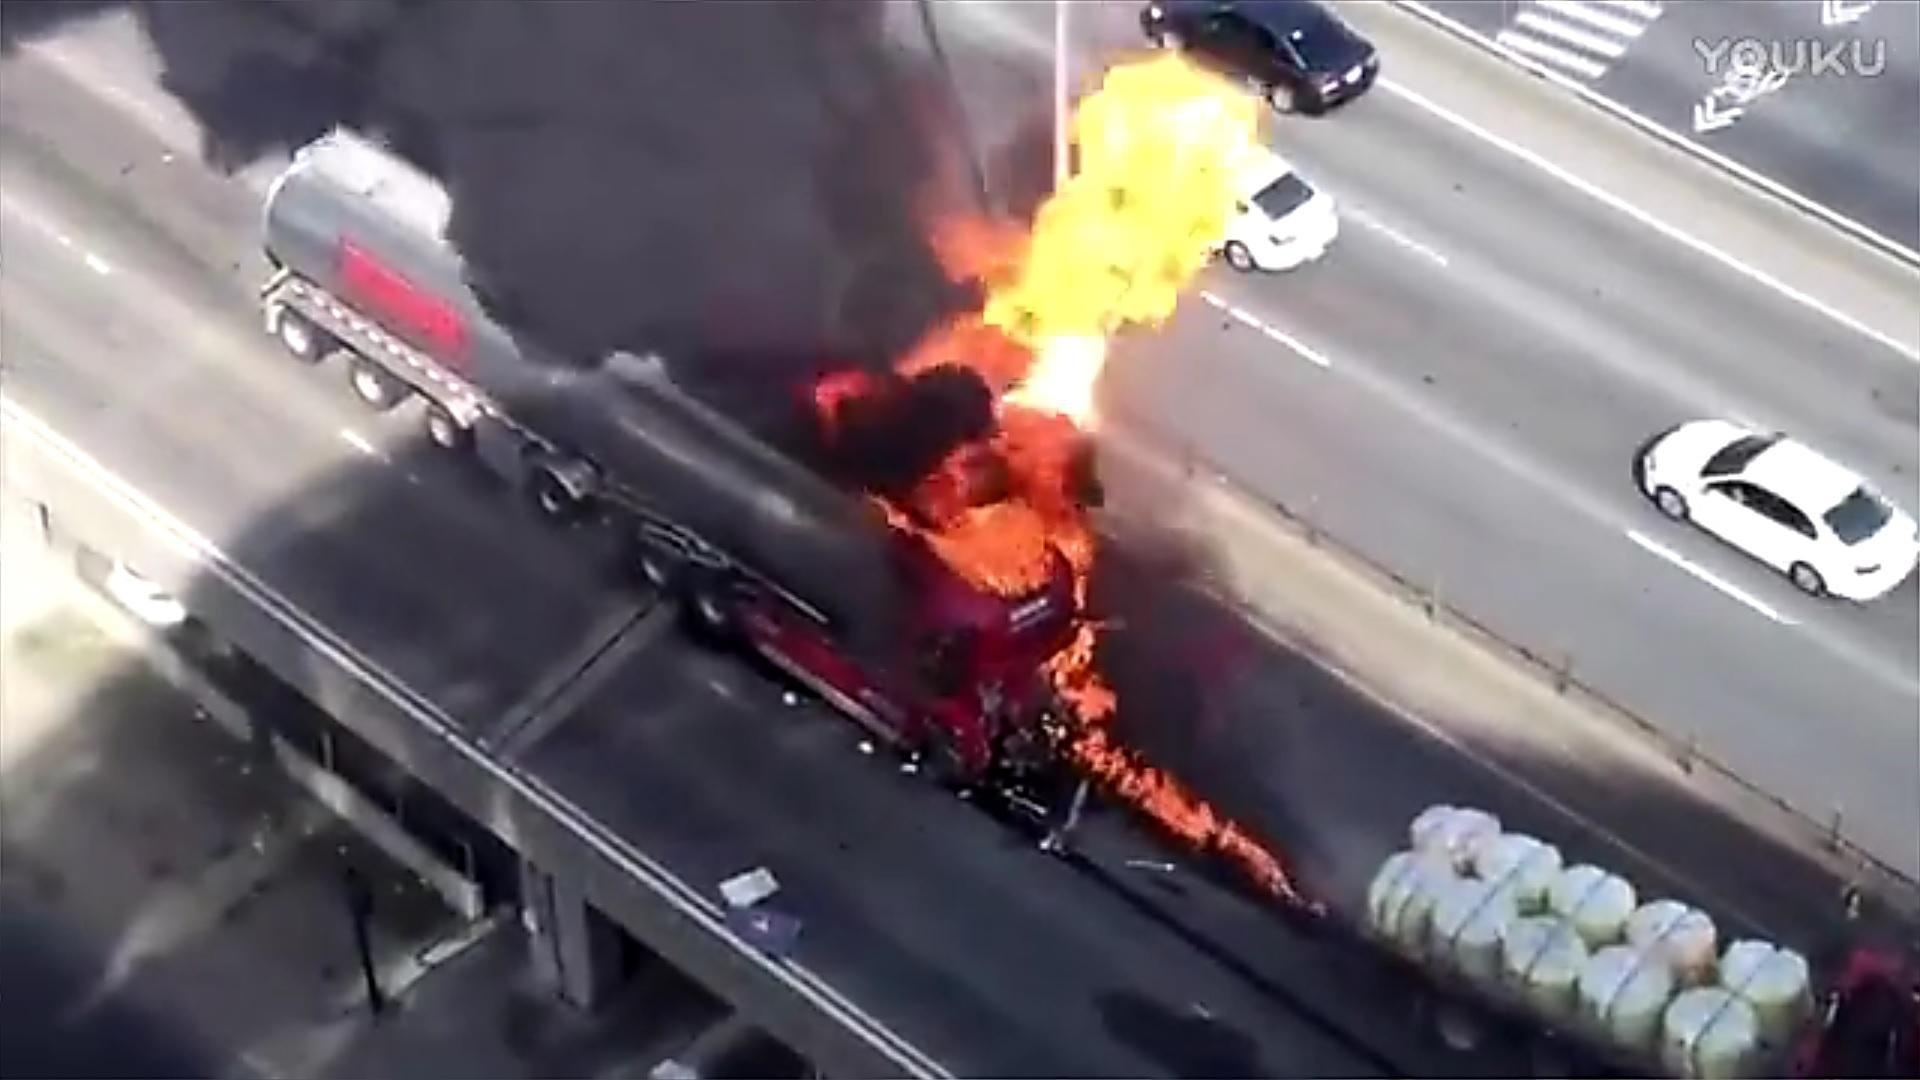fire: (913, 37, 1273, 477), (1038, 636, 1303, 898), (868, 440, 1098, 611)
